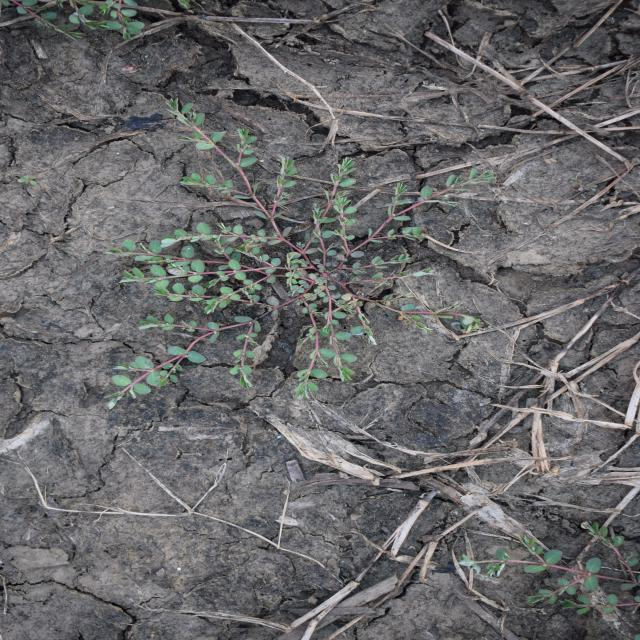SpottedSpurge: (100, 96, 501, 412), (456, 514, 639, 622), (1, 0, 148, 44)
